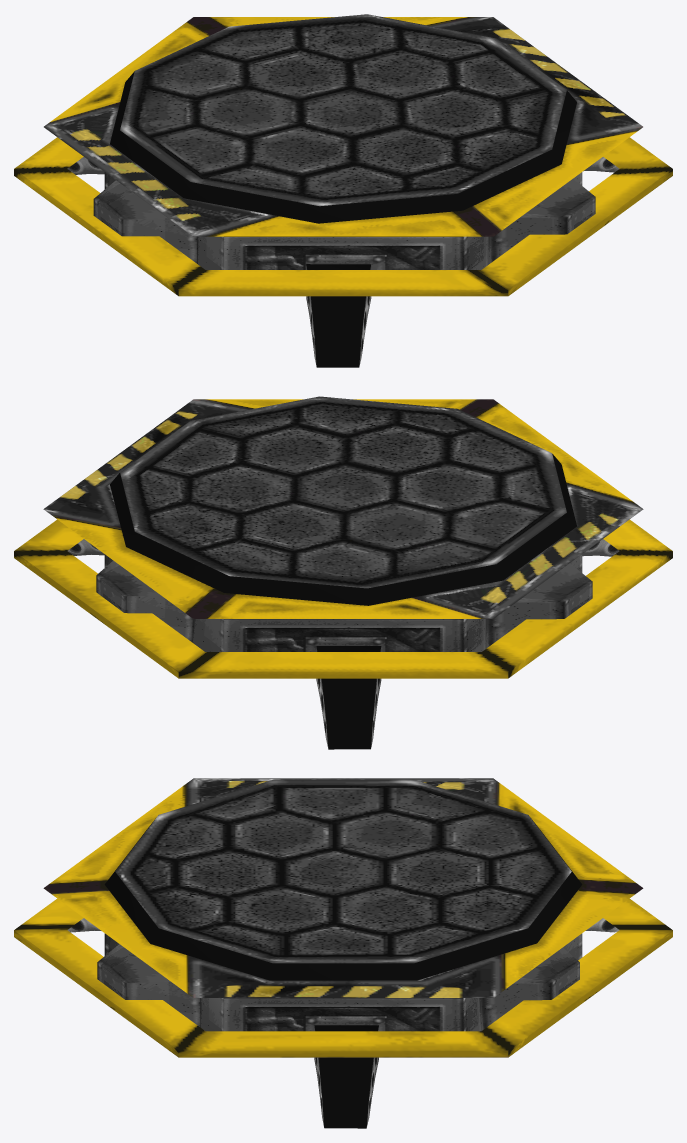
Rendered from teleporter.glb.
The picture shows the model from 3 angles, top to bottom: view 1: azimuth 30°, elevation 25°; view 2: azimuth 150°, elevation 25°; view 3: azimuth 270°, elevation 25°; orthographic projection.
Parts seen in each view (by area): view 1: teleporter; view 2: teleporter; view 3: teleporter.
Part boxes in pixels (x1,y1,x2,y2): teleporter: (14, 14, 672, 367); teleporter: (14, 396, 672, 749); teleporter: (14, 778, 672, 1128).
Bounding box in the file's own units: 53.79 × 11.48 × 57.84.
Materials: 2 (2 with a texture image).
